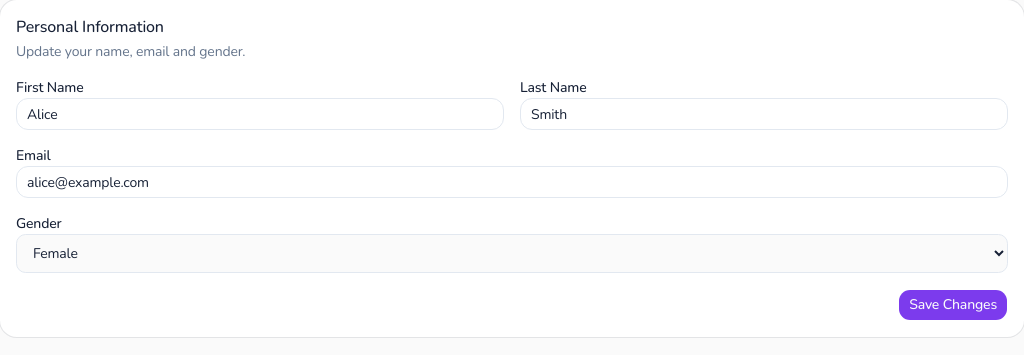
Test case: ProfileForm › shows 'Saving...' on the submit button while the update is in progress
This screenshot has width=1024, height=355.
Click the button "Save Changes" at (953,305), box [898, 289, 1008, 321]
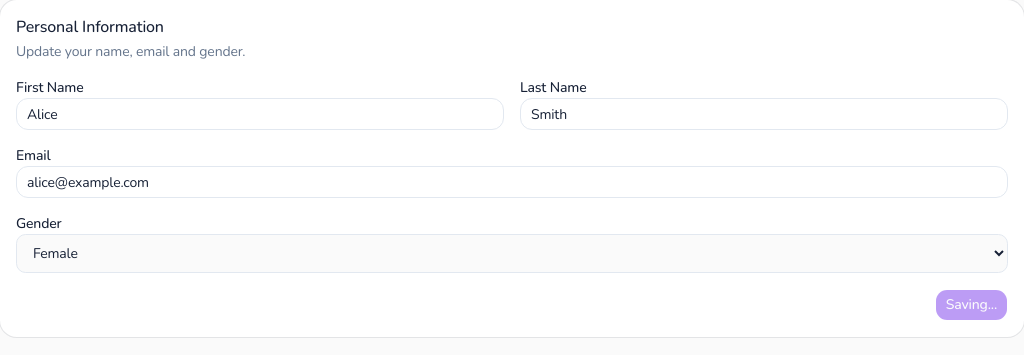
Now the button "Saving..." is disabled, box [935, 289, 1008, 321]
